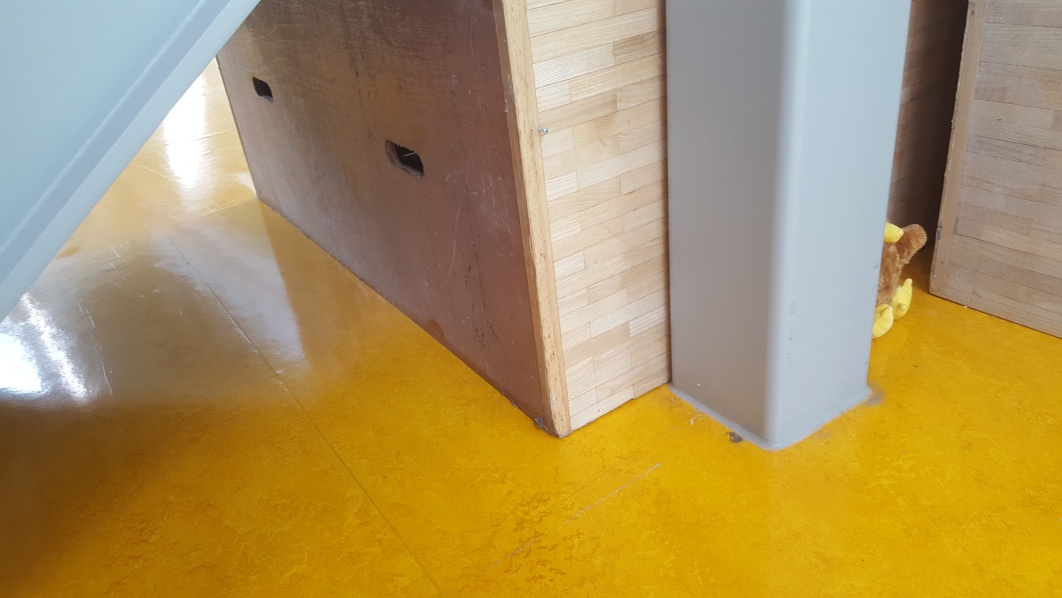chicken: (871, 221, 928, 337)
